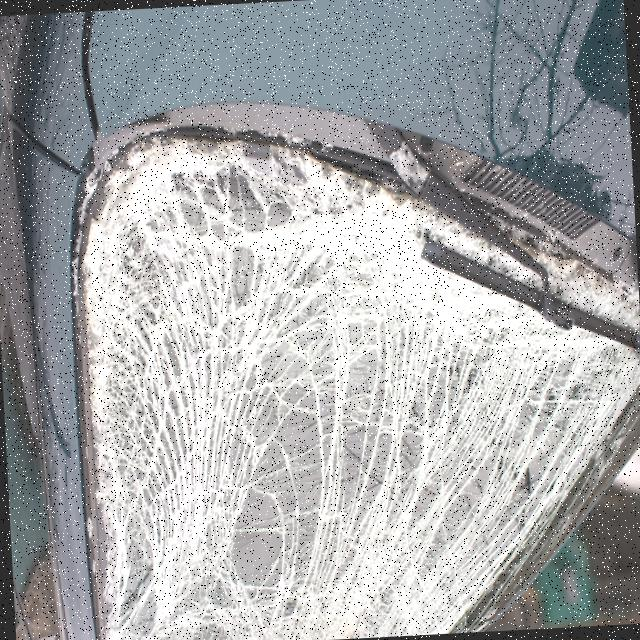Windshield: (72, 110, 607, 640)
